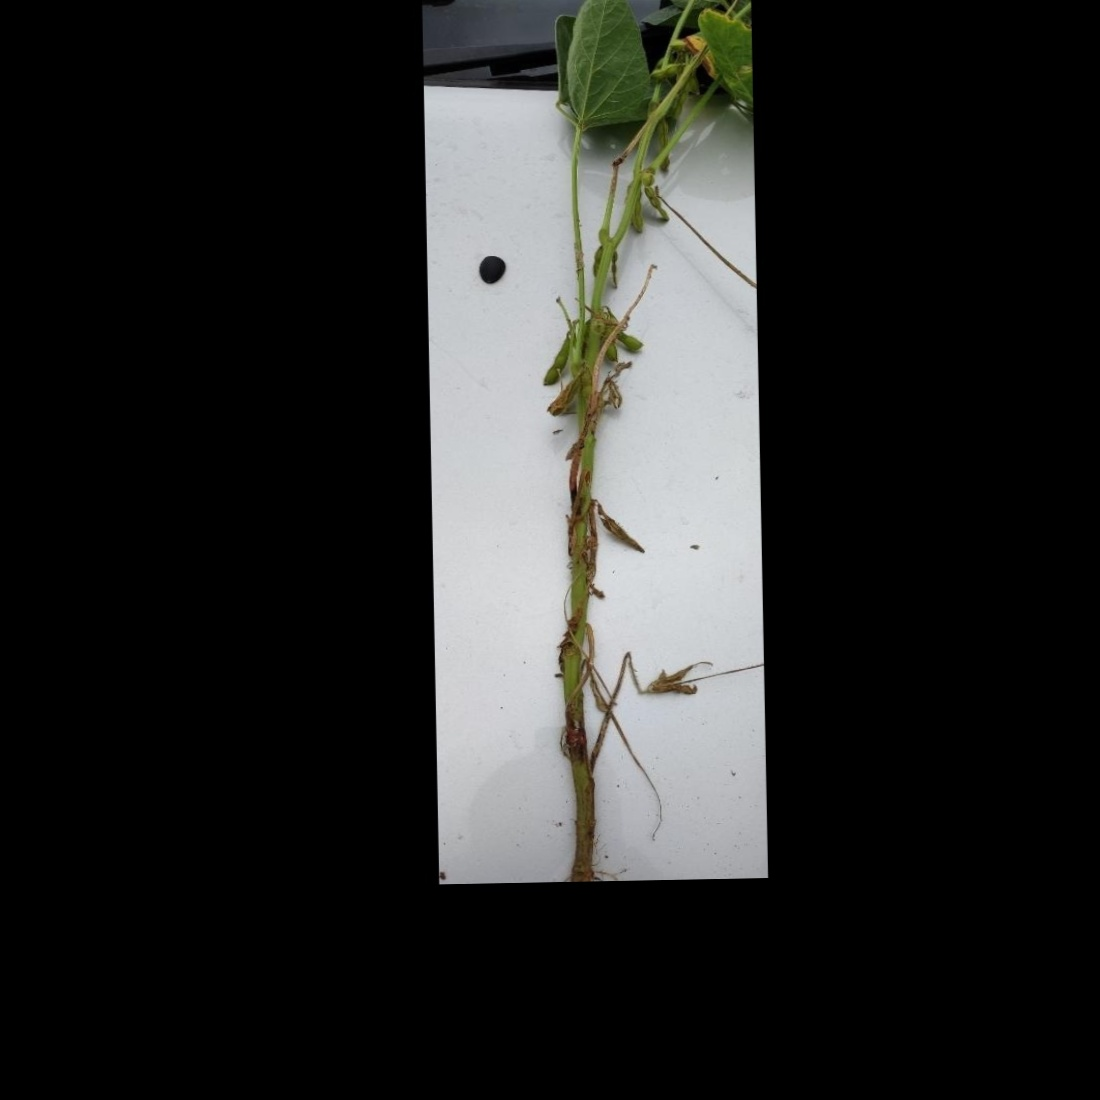pod: (540, 332, 569, 387), (641, 185, 668, 223), (646, 63, 683, 81), (616, 330, 647, 351)
soy: (491, 0, 751, 893)
